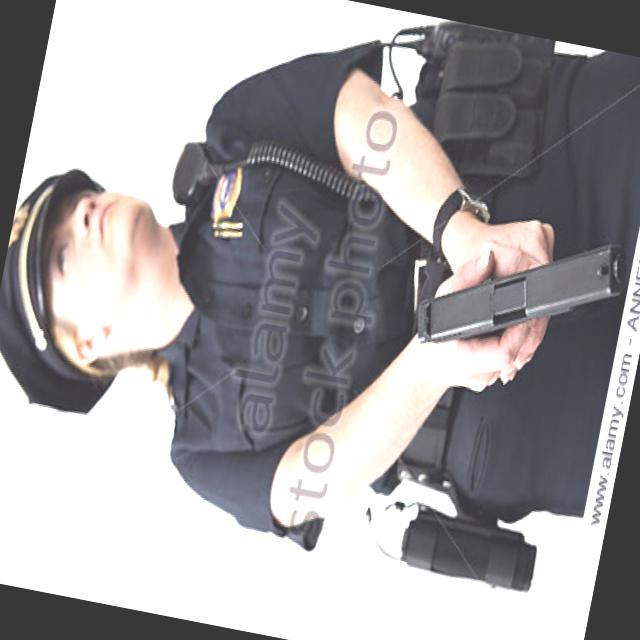handgun: (410, 196, 636, 394)
